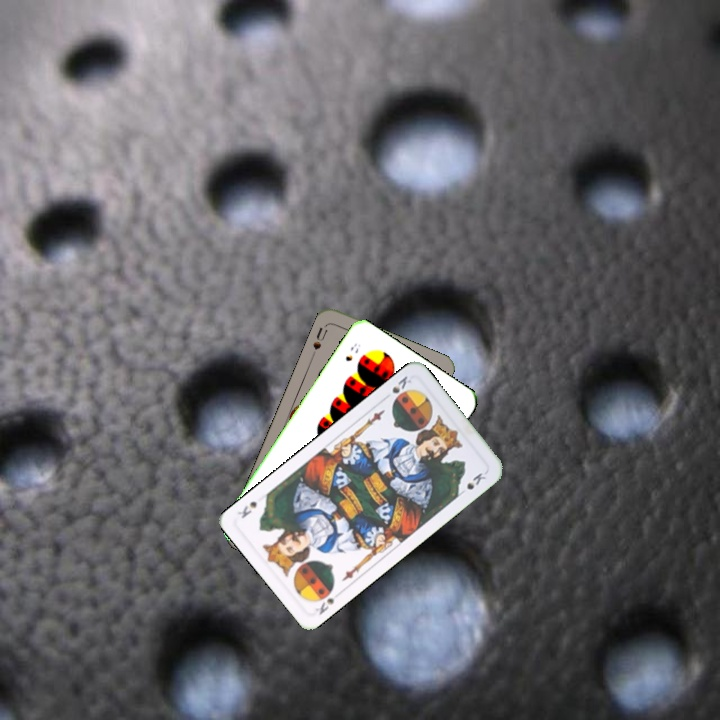S8: (341, 339, 363, 364)
SK: (311, 594, 338, 618), (388, 372, 414, 396)
SU: (307, 321, 330, 359)
